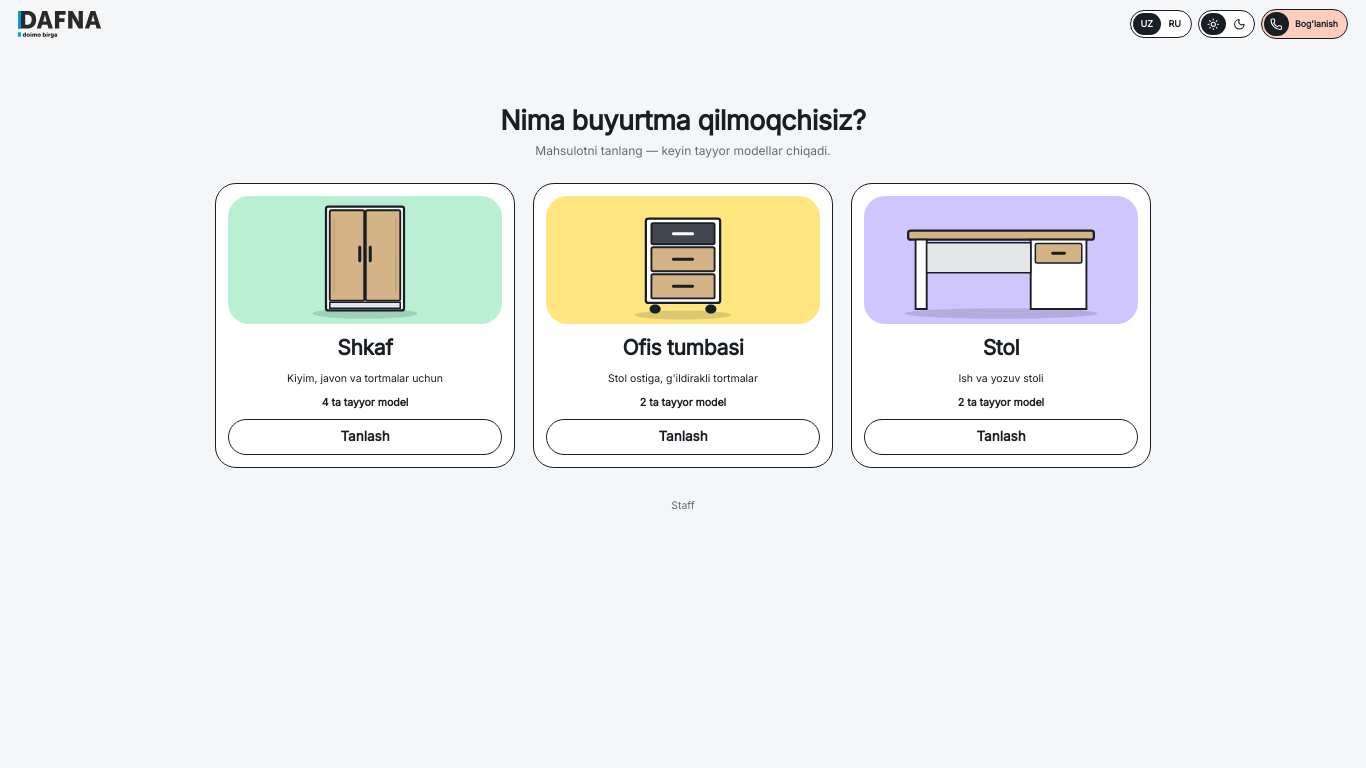
Scenario: D-43 the website (konfigurator.dafna.uz) vs a shop kiosk › the website: the phone step line and "Tayyor — ko'rib chiqish"
Click the button with aria-label "Shkaf: Tanlash" at [365, 326], box [215,183,515,468]
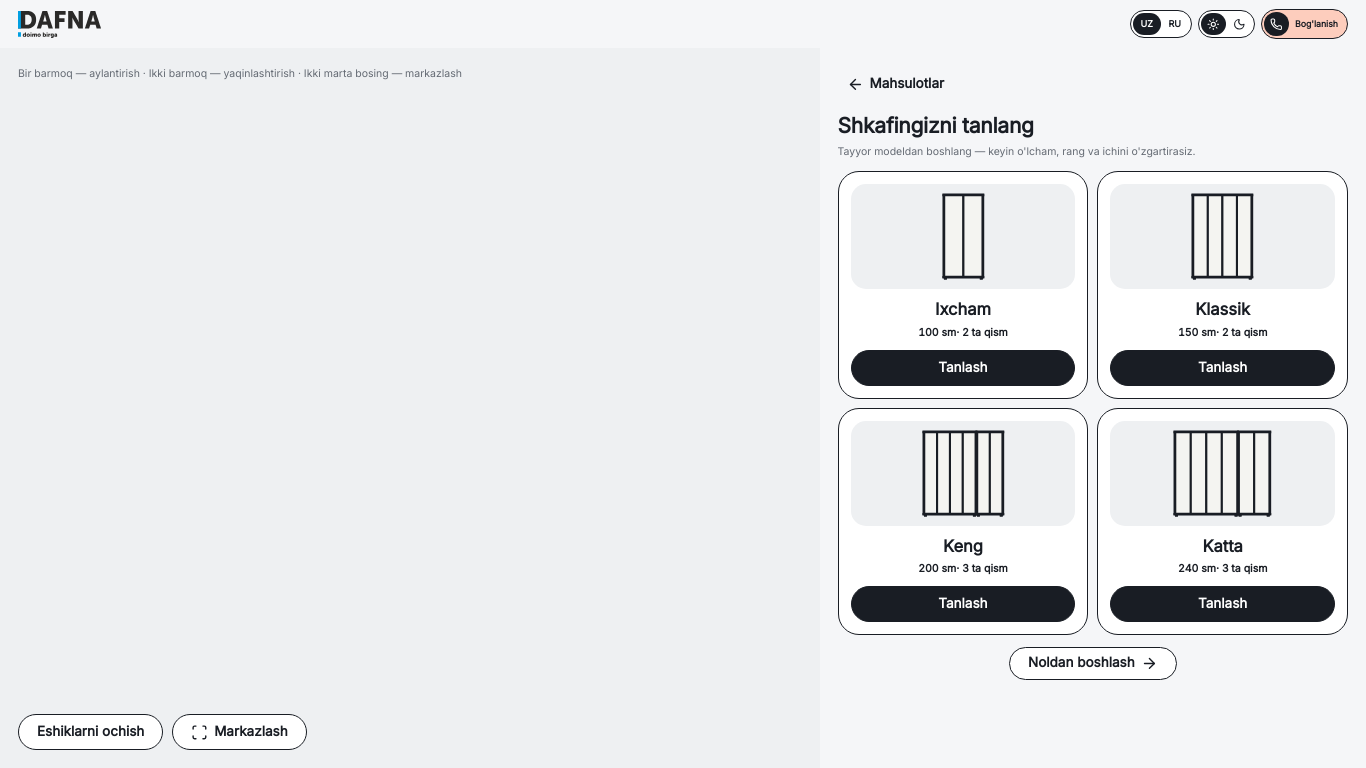
Click the button "Noldan boshlash" at [1093, 663], box [1009,647,1177,680]
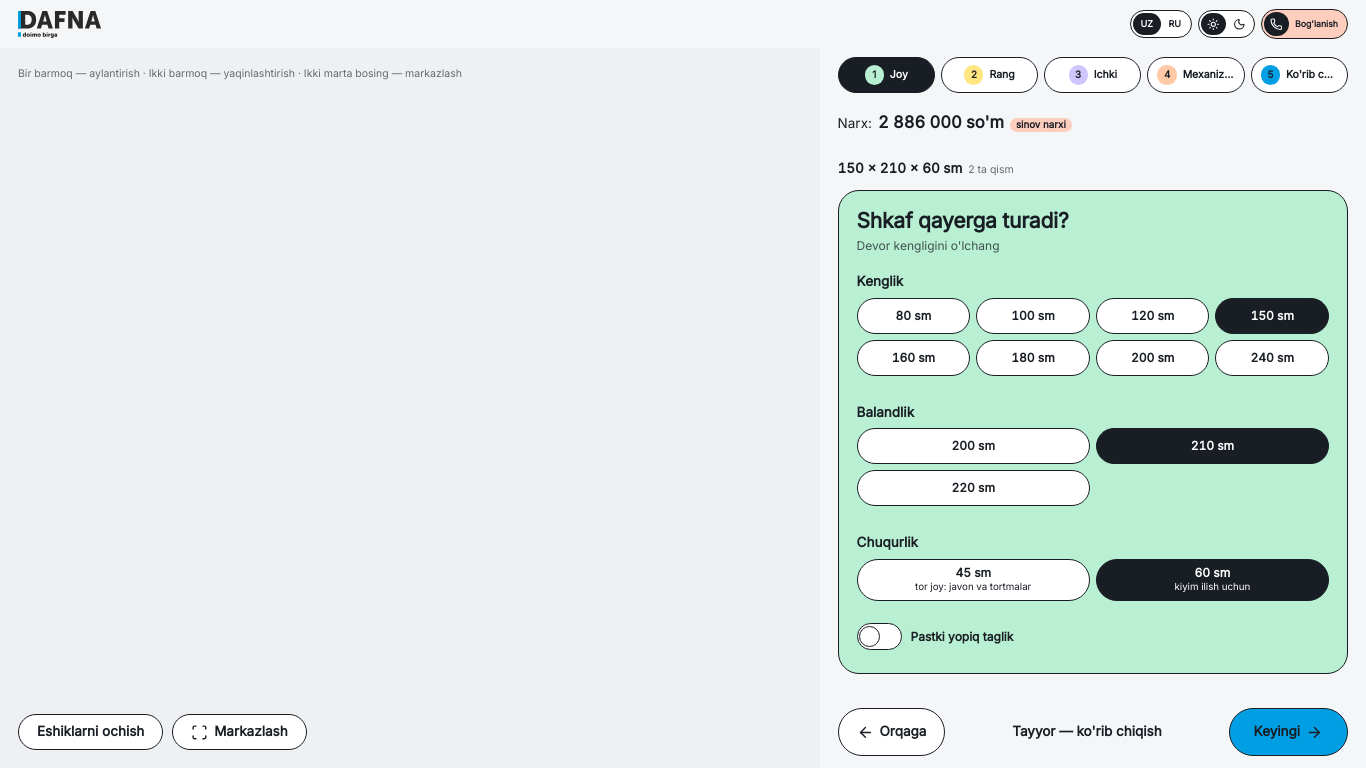
Now the button with test id "to-review" reads "Tayyor — ko'rib chiqish", box [1003,714,1171,750]
